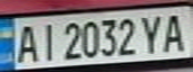0: (78, 17, 103, 60)
2: (115, 15, 142, 57), (60, 18, 84, 61)
3: (100, 16, 121, 58)
A: (12, 20, 42, 64), (160, 10, 190, 53)
I: (36, 20, 60, 62)
Y: (139, 11, 169, 55)
